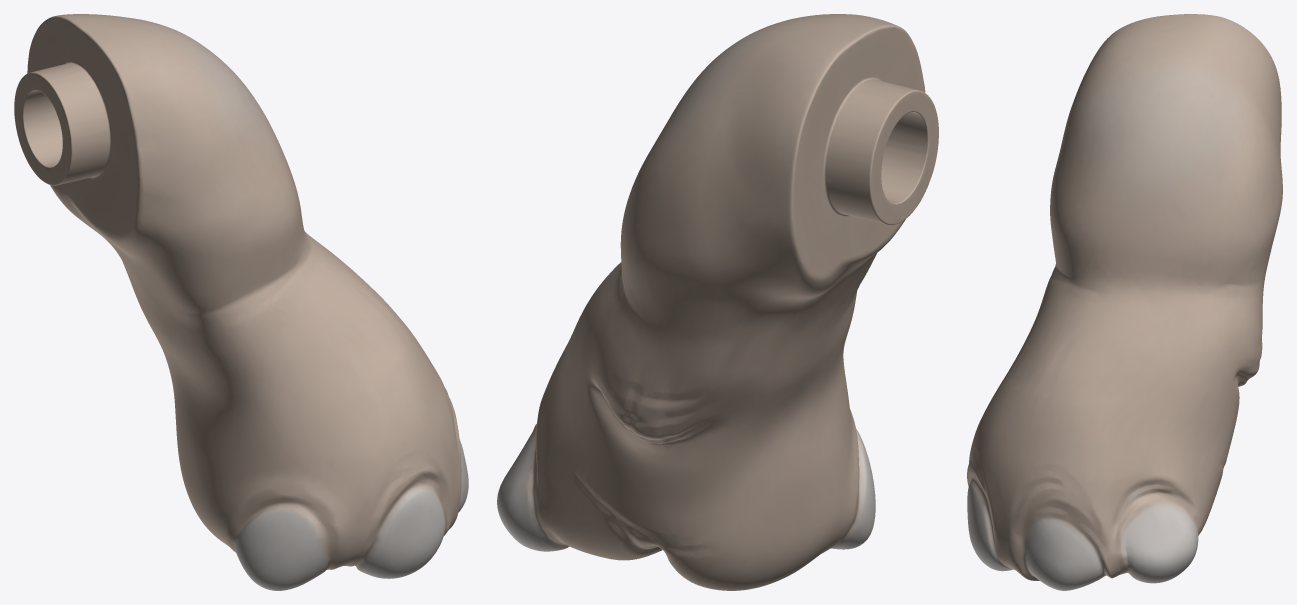
The model's file is Bras_Elephant_lft.glb.
3 renders of one model, left to right at view 1: azimuth 30°, elevation 25°; view 2: azimuth 150°, elevation 25°; view 3: azimuth 270°, elevation 25°, orthographic. The views are drawn at different scales.
Visible parts, largest first — view 1: Bras_Elephant_lft; view 2: Bras_Elephant_lft; view 3: Bras_Elephant_lft.
Boxes of the visible parts, x1,y1,x2,y2 form: Bras_Elephant_lft: [14, 14, 468, 590]; Bras_Elephant_lft: [497, 14, 938, 590]; Bras_Elephant_lft: [967, 14, 1282, 590].
Bounding box in the file's own units: 3.05 × 4.27 × 2.64.
